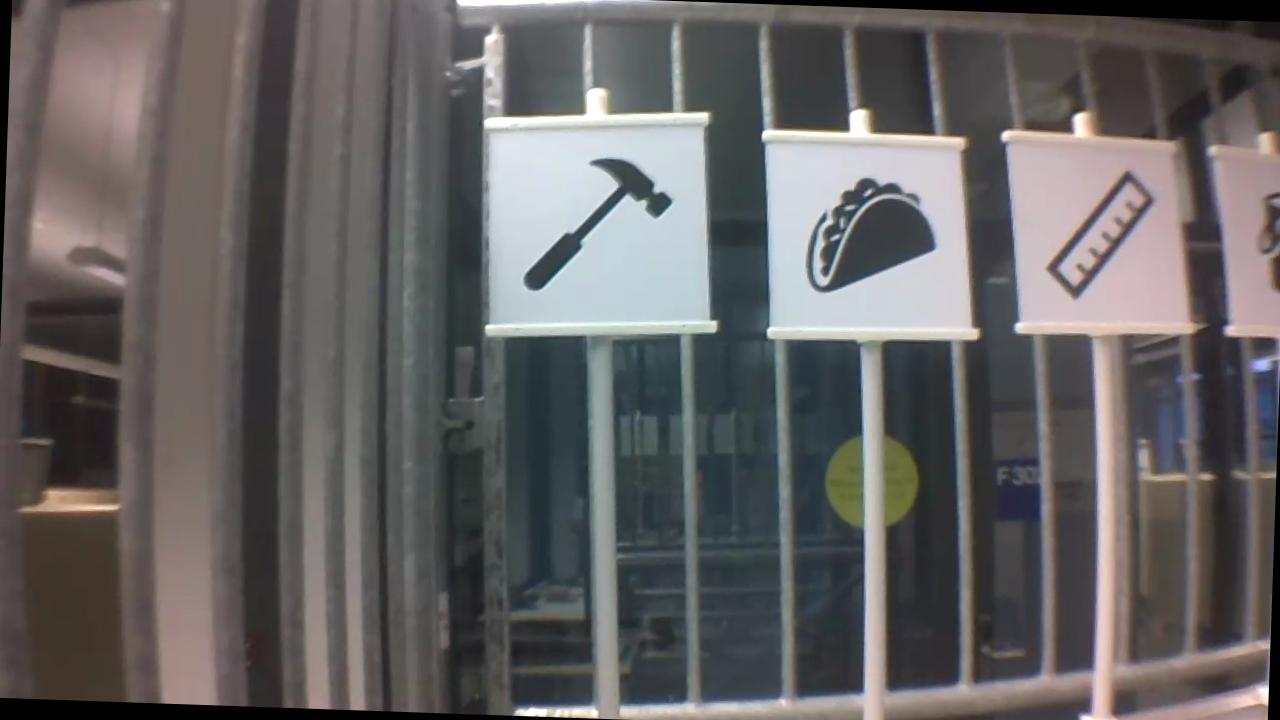hammer: (518, 146, 679, 297)
ruler: (1037, 162, 1165, 308)
taco: (802, 163, 941, 298)
